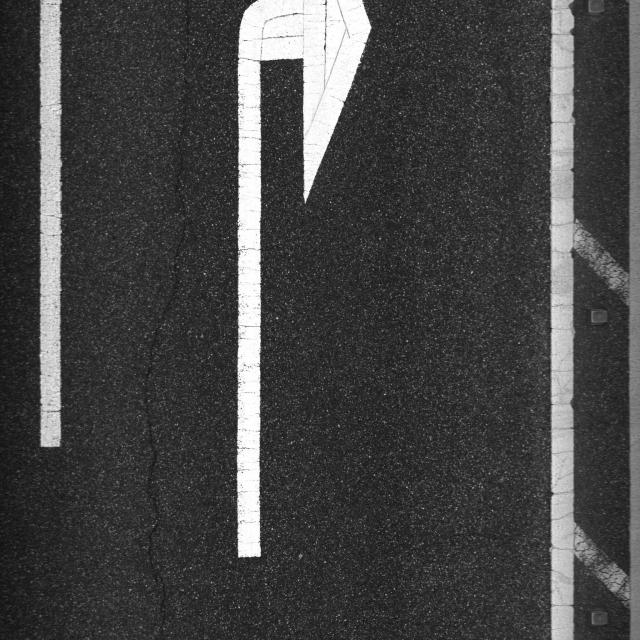right: (36, 2, 584, 551)
